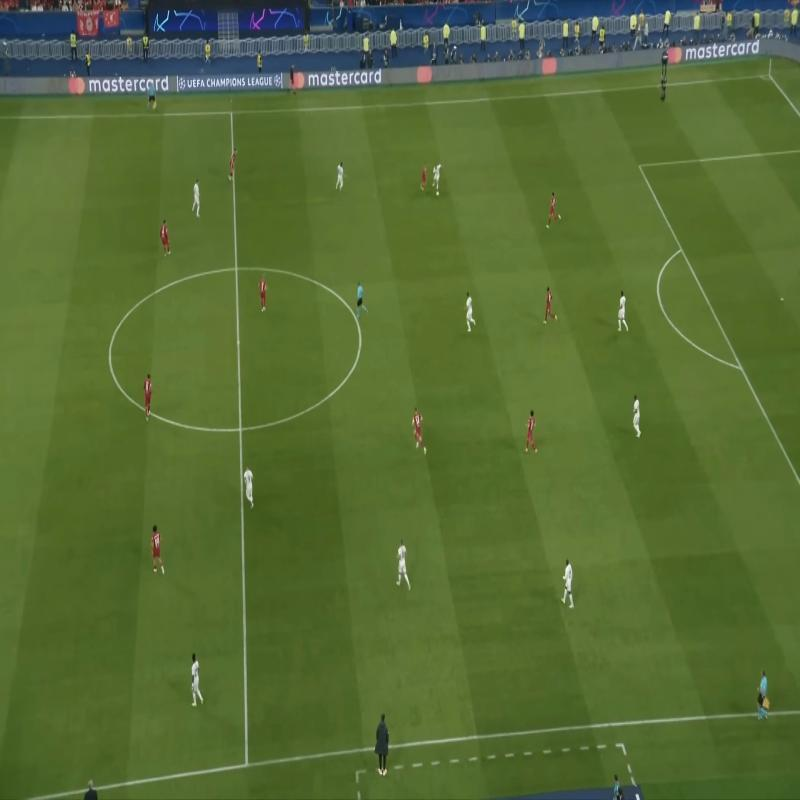1: (763, 68, 776, 83)
10: (674, 242, 690, 258)
11: (730, 354, 752, 380)
13: (226, 106, 237, 121)
14: (228, 259, 245, 276)
15: (232, 422, 248, 440)
16: (237, 756, 255, 774)
9: (632, 160, 646, 174)
c: (352, 330, 370, 347), (100, 347, 117, 364)
